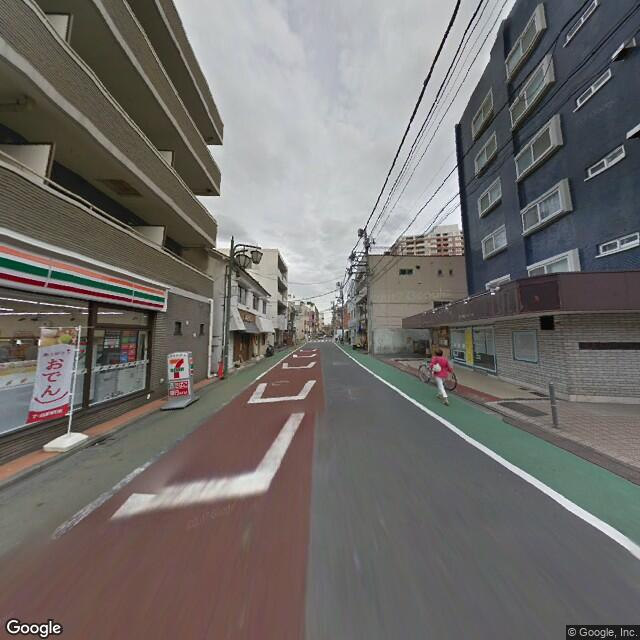7-eleven: (1, 241, 165, 317), (168, 349, 189, 382)
